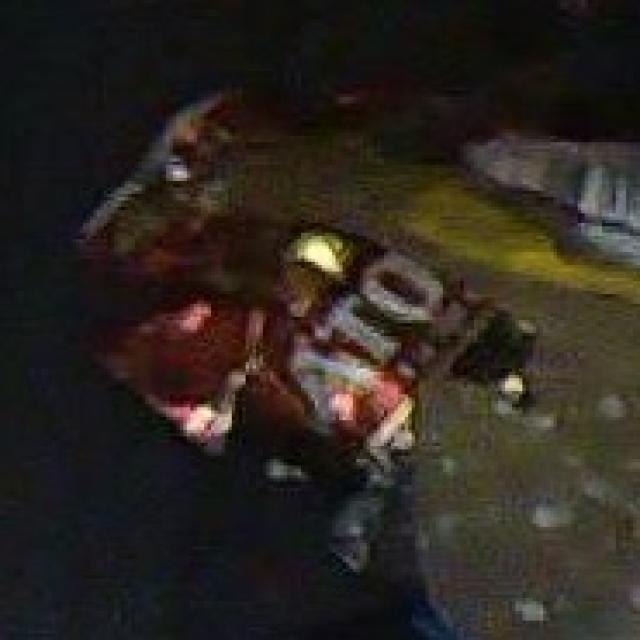can: (77, 96, 524, 488)
